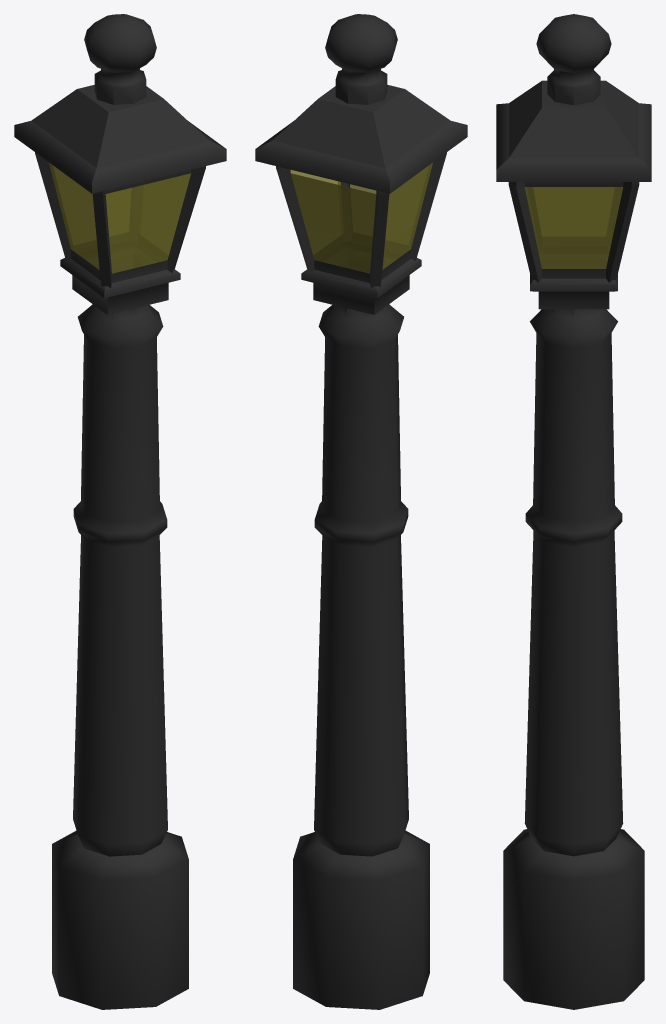
The model's file is lamp.fbx.
The picture shows the model from 3 angles, left to right: view 1: azimuth 30°, elevation 25°; view 2: azimuth 150°, elevation 25°; view 3: azimuth 270°, elevation 25°; orthographic projection.
Visible parts, largest first — view 1: pCylinder3; view 2: pCylinder3; view 3: pCylinder3.
Part boxes in pixels (bbox=[...]): pCylinder3: bbox=[14, 14, 226, 1009]; pCylinder3: bbox=[255, 14, 467, 1009]; pCylinder3: bbox=[496, 14, 651, 1009].
Bounding box in the file's own units: 4.13 × 28.23 × 4.13.
